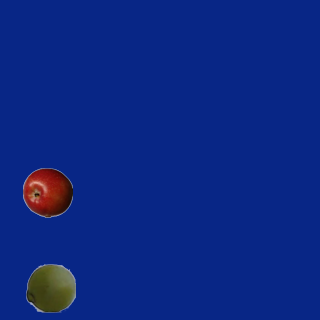Apple Braeburn: (22, 167, 72, 217)
Grape White 4: (25, 262, 75, 312)
